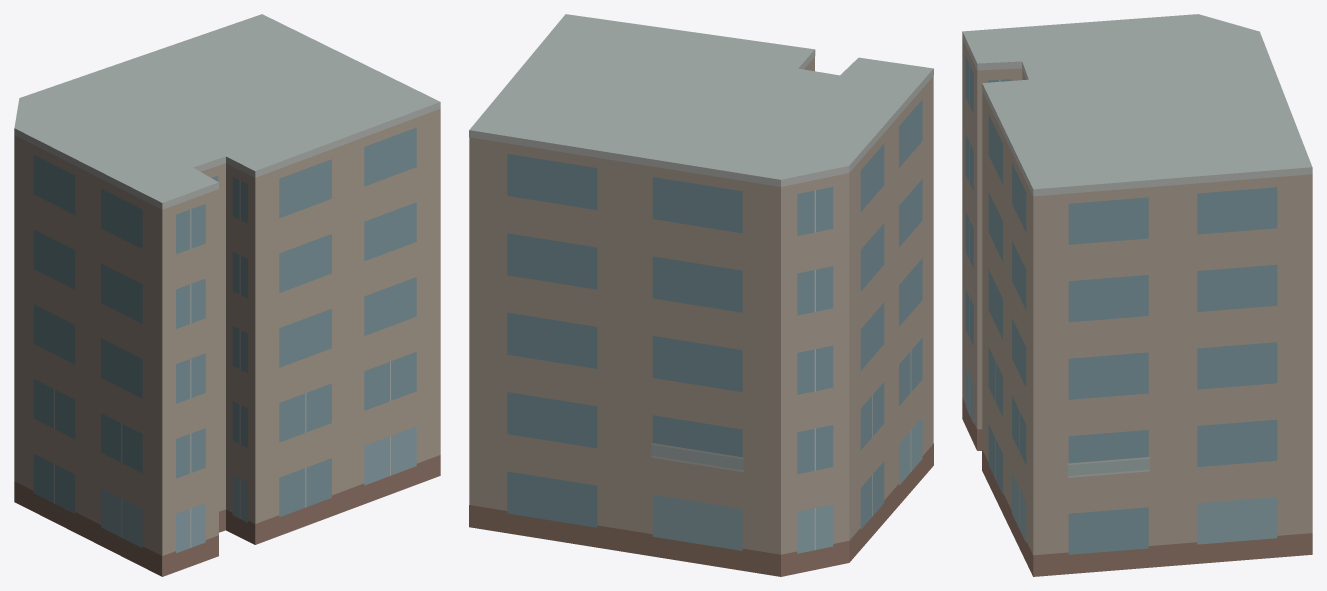
File: survey-upis-32958978.glb
3 renders of one model, left to right at view 1: azimuth 30°, elevation 25°; view 2: azimuth 150°, elevation 25°; view 3: azimuth 270°, elevation 25°, orthographic. The views are drawn at different scales.
Parts seen in each view (by area): view 1: survey-upis-32958978.tmp; view 2: survey-upis-32958978.tmp; view 3: survey-upis-32958978.tmp.
Part boxes in pixels (left/top/right/bottom): survey-upis-32958978.tmp: left=14, top=14, right=440, bottom=576; survey-upis-32958978.tmp: left=469, top=14, right=933, bottom=576; survey-upis-32958978.tmp: left=962, top=14, right=1312, bottom=576.
Bounding box in the file's own units: 13.11 × 13.5 × 11.06.
